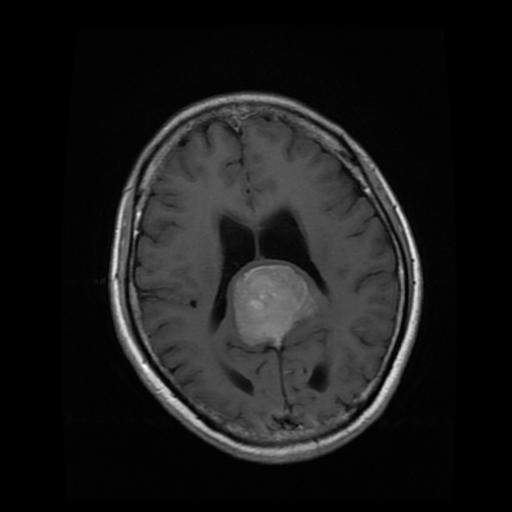Menigiomia_tumour: (231, 264, 316, 346)
